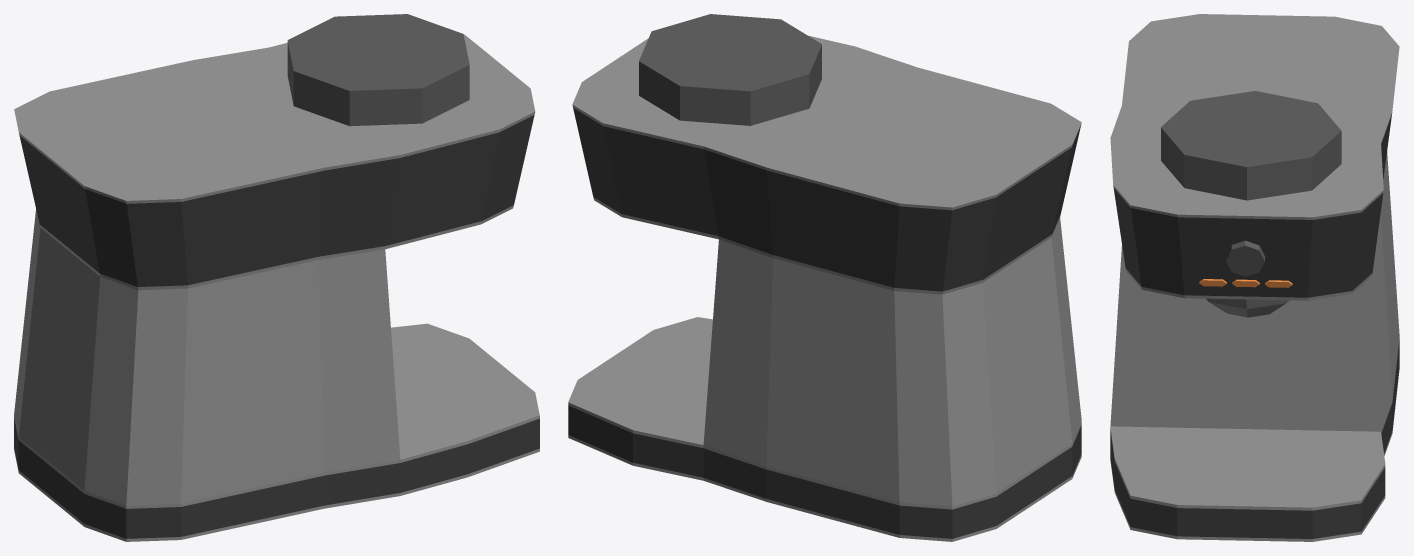
Rendered from CoffeeMachine_231109.glb.
3 views of the same model, side by side, from view 1: azimuth 30°, elevation 25°; view 2: azimuth 150°, elevation 25°; view 3: azimuth 270°, elevation 25° (orthographic). The views are drawn at different scales.
Parts seen in each view (by area): view 1: CoffeeMachine; view 2: CoffeeMachine; view 3: CoffeeMachine.
Boxes of the visible parts, x1=… form: CoffeeMachine: x1=14, y1=14, x2=539, y2=541; CoffeeMachine: x1=568, y1=14, x2=1081, y2=541; CoffeeMachine: x1=1110, y1=14, x2=1399, y2=541.
Bounding box in the file's own units: 1.35 × 1.09 × 0.8046.
Materials: 1 (1 with a texture image).
